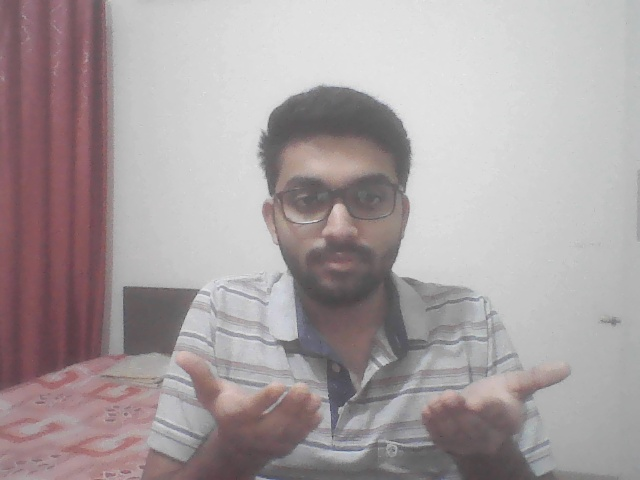what: (163, 335, 579, 463)
